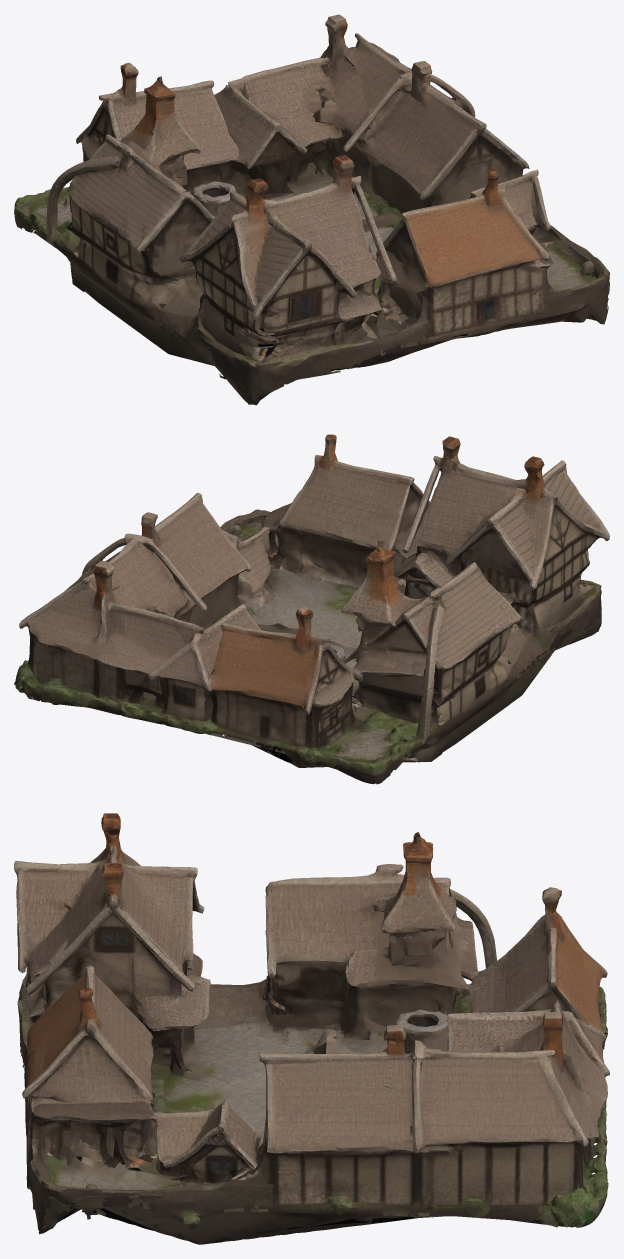
The model's file is human_town.glb.
3 renders of one model, top to bottom at view 1: azimuth 30°, elevation 25°; view 2: azimuth 150°, elevation 25°; view 3: azimuth 270°, elevation 25°, orthographic. The views are drawn at different scales.
Visible parts, largest first — view 1: output_unwrapped; view 2: output_unwrapped; view 3: output_unwrapped.
Part boxes in pixels (<box>): output_unwrapped: <box>14,14,609,405</box>; output_unwrapped: <box>14,434,609,784</box>; output_unwrapped: <box>14,813,609,1244</box>.
Size of the model in its own units: 1.75 by 0.8458 by 1.9.
1 material, 1 textured.
